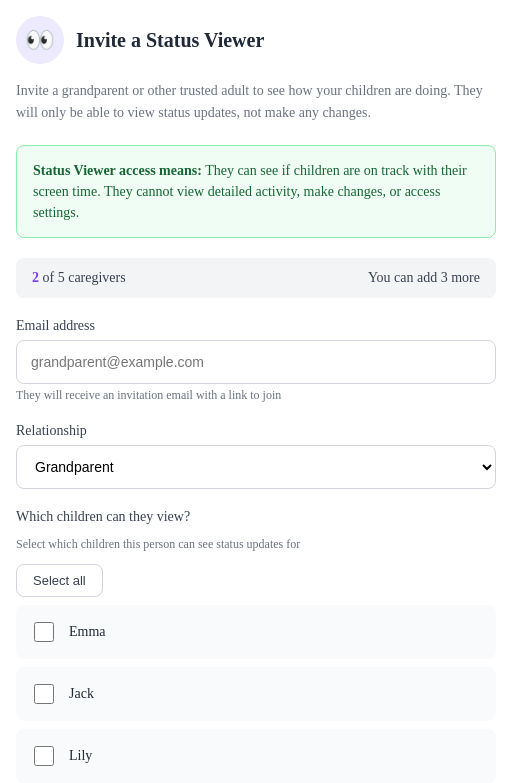
it: CaregiverInviteForm › Email Validation › shows error for invalid email format
The width and height of the screenshot is (513, 783).
In the field with test id "email-input": (256, 362) [16,340,496,384], type "invalid-email"
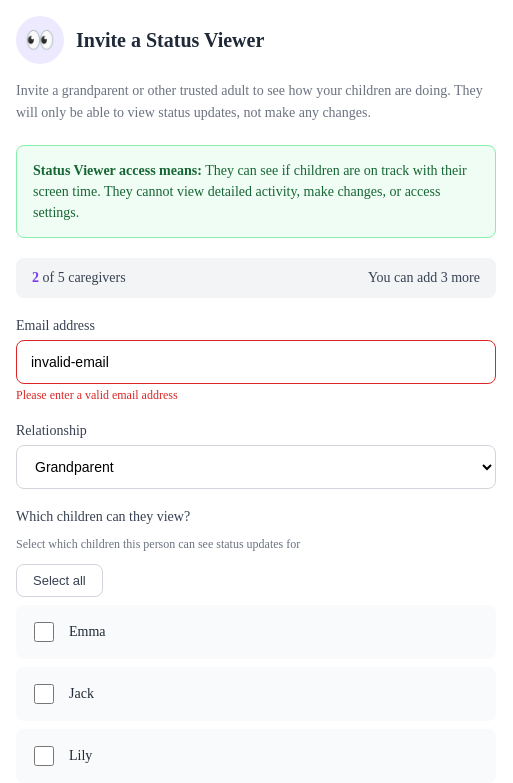
expect the text "Please enter a valid email address" is shown: met, box [16,388,178,402]
